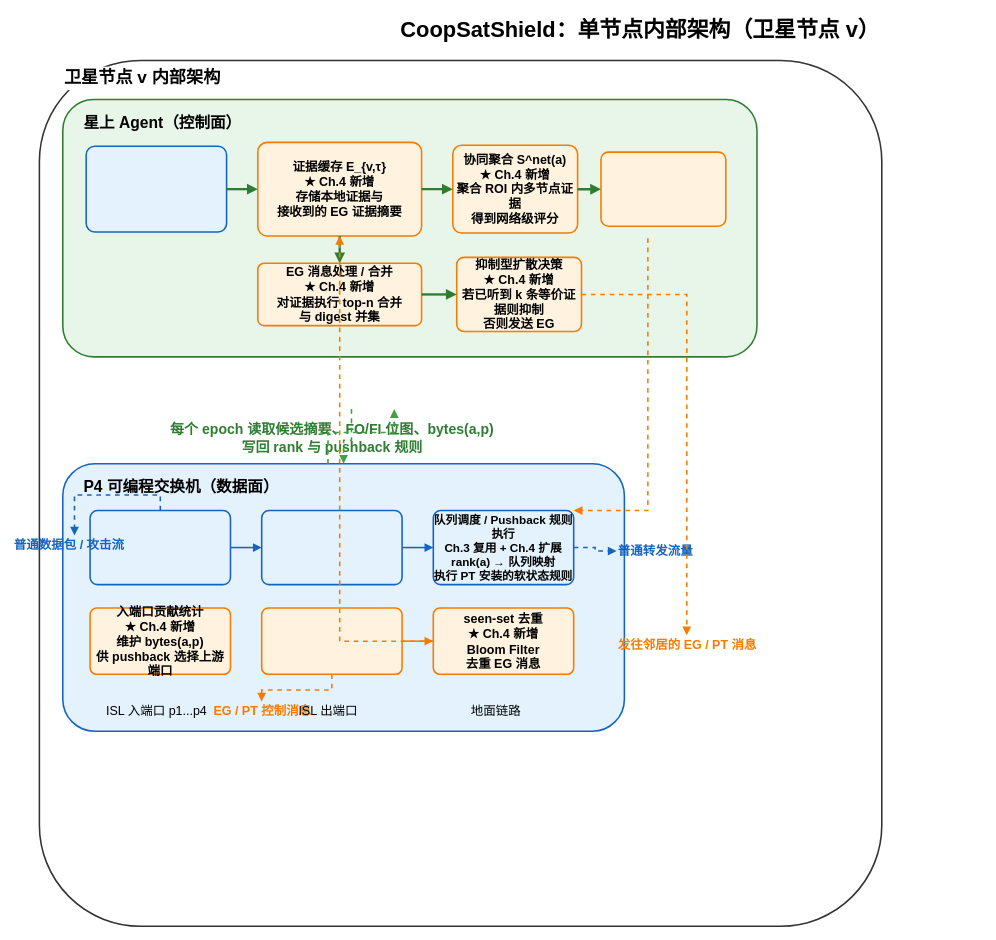
Image size: 996x940. Some labels were removed from this diagram. The centre of each missing label's shape, as x and y in pixels:
"EG / PT 消息解析 ★ Ch.4 新增 轻量 header 解析 与 TTL 递减" belongs at pixel 331 641.
"FO/FI 位图 Ch.3 复用 仅对 H_t 中候选 key 维护 bitmap(a)" belongs at pixel 331 547.
"Pushback 判定 ★ Ch.4 新增 若 S^net(a) ≥ Θ_pb 则生成 PT 令牌" belongs at pixel 663 189.
"top-K 候选生成 Ch.3 复用 CMS + 候选缓存 维护候选集 H_t 与近似频次" belongs at pixel 160 547.
"多签名评分 Ch.3 复用 根据 R(a)、F(a)、P(a) 计算本地评分 S_{v,τ}(a)" belongs at pixel 156 188.
